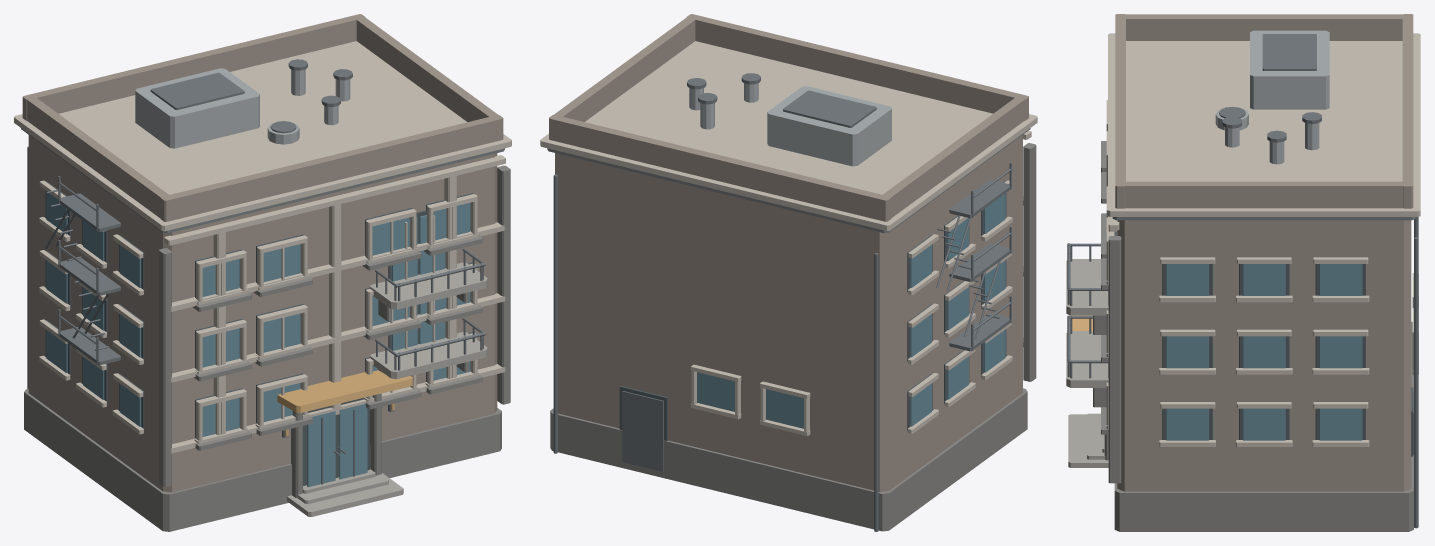
The model's file is apartment-proof-01.gltf.
3 renders of one model, left to right at view 1: azimuth 30°, elevation 25°; view 2: azimuth 150°, elevation 25°; view 3: azimuth 270°, elevation 25°, orthographic. The views are drawn at different scales.
Parts seen in each view (by area): view 1: masonry, trim, stone, glass, metal, concrete, utility, dark, accent, roof; view 2: masonry, trim, stone, metal, glass, utility, dark, roof; view 3: masonry, trim, stone, glass, concrete, metal, utility, dark, roof.
Part boxes in pixels (left/top/right/bottom): masonry: left=22, top=14, right=503, bottom=492; trim: left=14, top=41, right=511, bottom=453; stone: left=24, top=165, right=510, bottom=531; glass: left=46, top=191, right=470, bottom=487; metal: left=27, top=59, right=485, bottom=484; concrete: left=287, top=262, right=487, bottom=516; utility: left=135, top=68, right=350, bottom=148; dark: left=45, top=181, right=473, bottom=485; accent: left=277, top=370, right=413, bottom=436; roof: left=21, top=128, right=504, bottom=233; masonry: left=549, top=14, right=1028, bottom=491; trim: left=540, top=41, right=1037, bottom=435; stone: left=550, top=143, right=1036, bottom=531; metal: left=553, top=73, right=1011, bottom=531; glass: left=697, top=193, right=1005, bottom=428; utility: left=689, top=83, right=891, bottom=166; dark: left=619, top=181, right=1006, bottom=440; roof: left=547, top=128, right=1030, bottom=233; masonry: left=1115, top=14, right=1413, bottom=491; trim: left=1106, top=33, right=1420, bottom=446; stone: left=1093, top=141, right=1413, bottom=531; glass: left=1166, top=264, right=1362, bottom=440; concrete: left=1066, top=259, right=1108, bottom=467; metal: left=1067, top=34, right=1418, bottom=528; utility: left=1215, top=30, right=1329, bottom=164; dark: left=1114, top=231, right=1413, bottom=456; roof: left=1112, top=217, right=1415, bottom=220.
Size of the model in its own units: 13.94 by 12.7 by 11.11.
